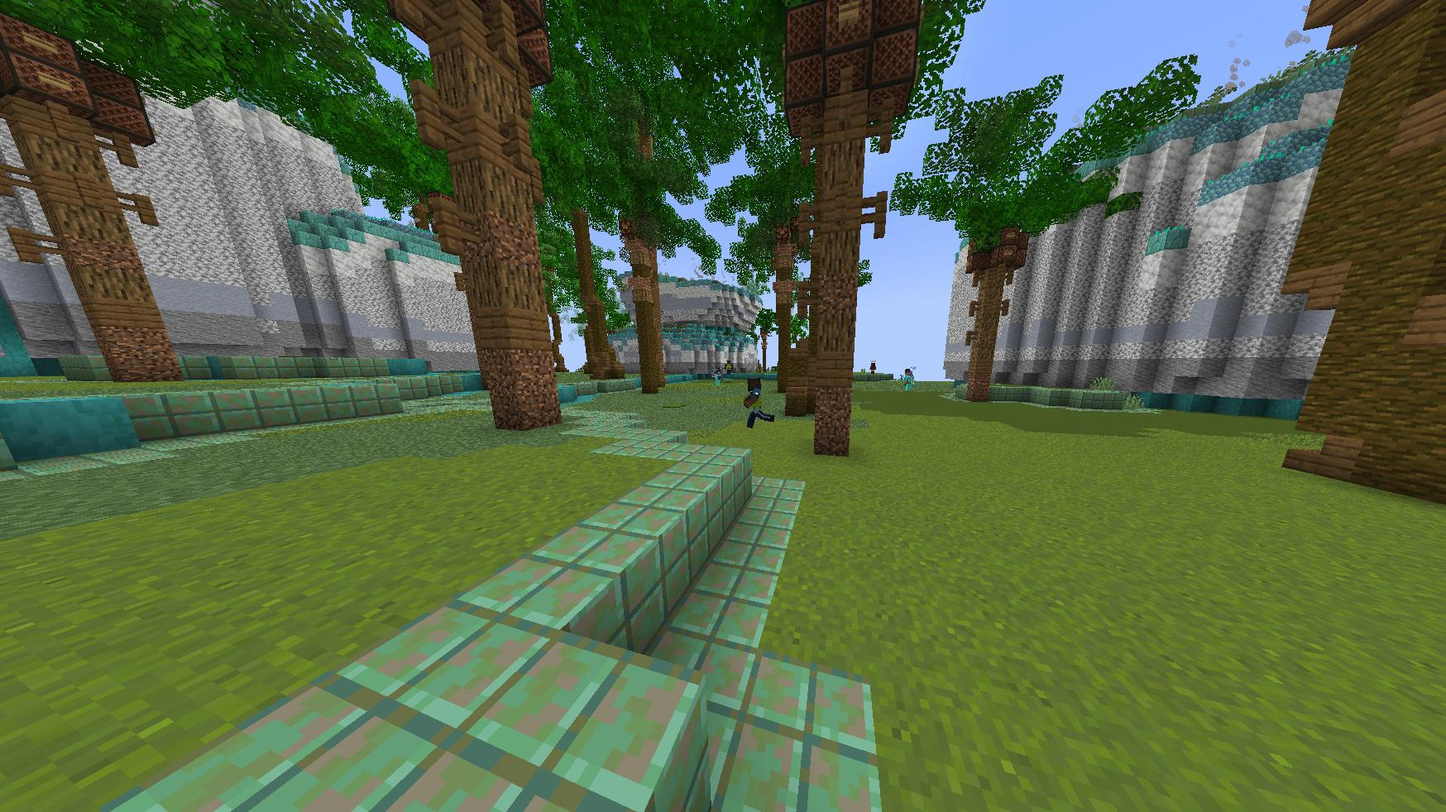Guardian: (743, 376, 775, 427)
